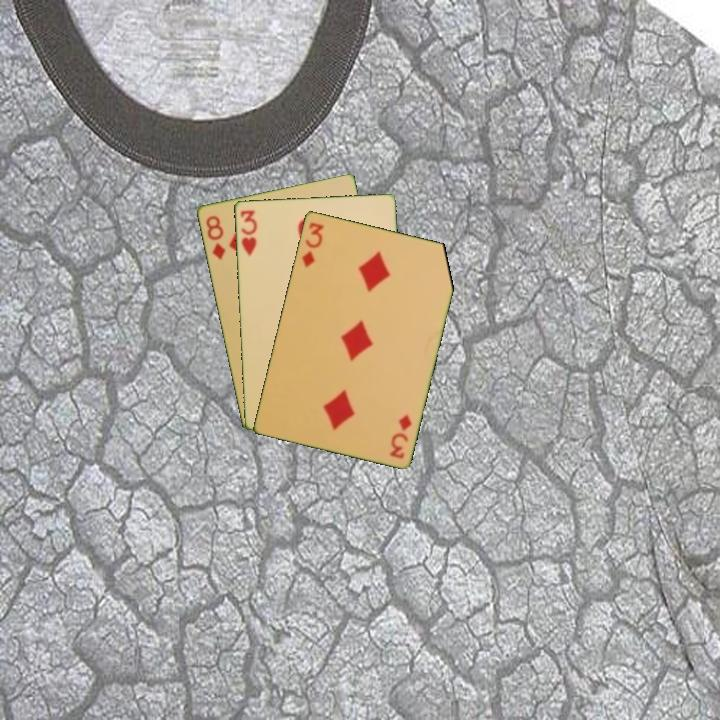3d: (385, 410, 414, 461), (298, 218, 326, 270)
3h: (236, 206, 259, 259)
8d: (202, 212, 228, 263)
